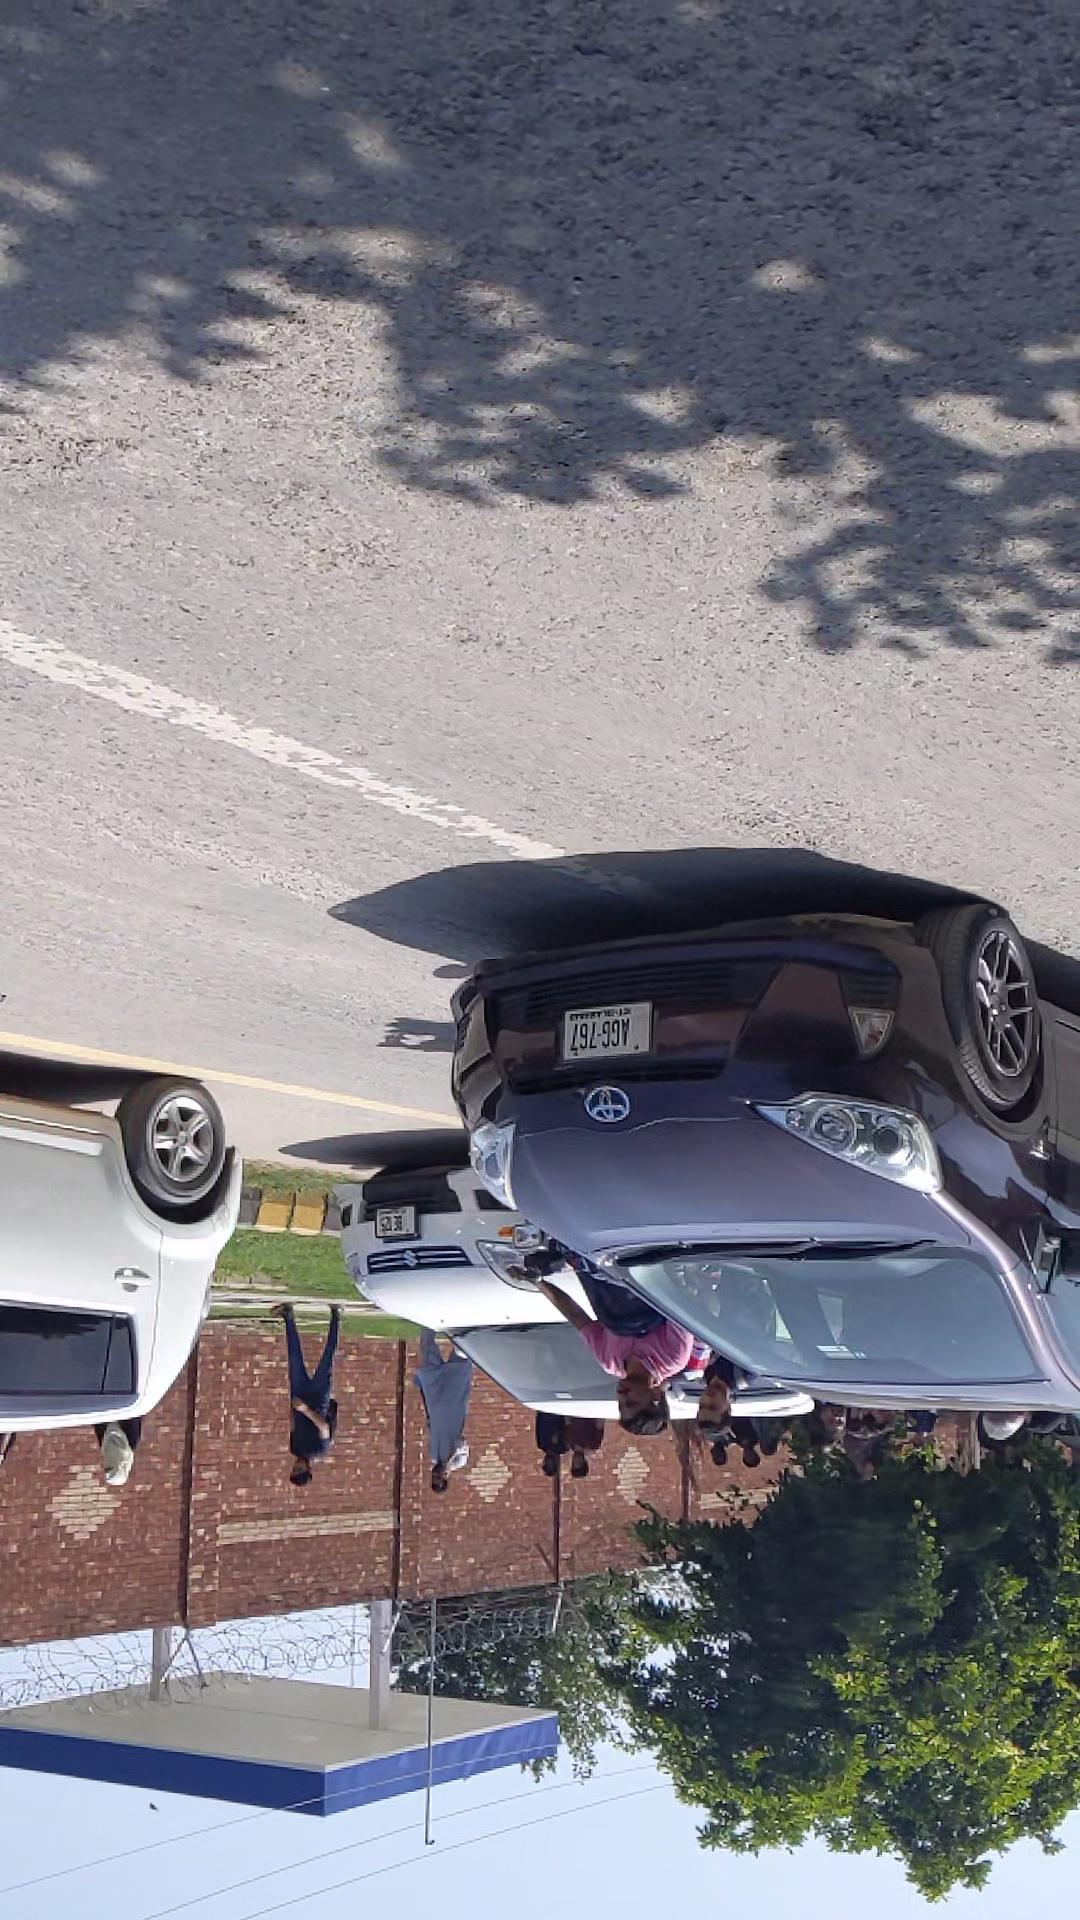windshield: (32, 535, 496, 695)
